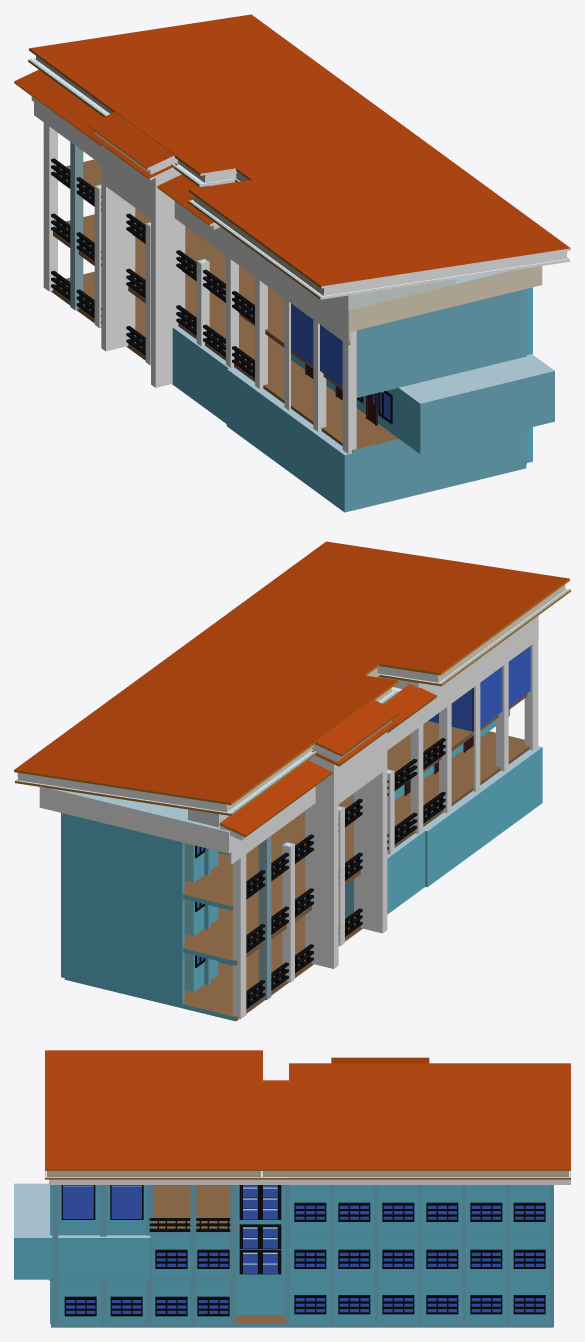
File: COE 1.glb
3 renders of one model, top to bottom at view 1: azimuth 30°, elevation 25°; view 2: azimuth 150°, elevation 25°; view 3: azimuth 270°, elevation 25°, orthographic. The views are drawn at different scales.
Visible parts, largest first — view 1: cube.625; view 2: cube.625; view 3: cube.625.
Part boxes in pixels (bbox=[...]): cube.625: bbox=[14, 14, 570, 512]; cube.625: bbox=[14, 541, 570, 1021]; cube.625: bbox=[14, 1050, 570, 1327].
Bounding box in the file's own units: 7.44 × 6.68 × 17.41.
Materials: 16 (16 with a texture image).
